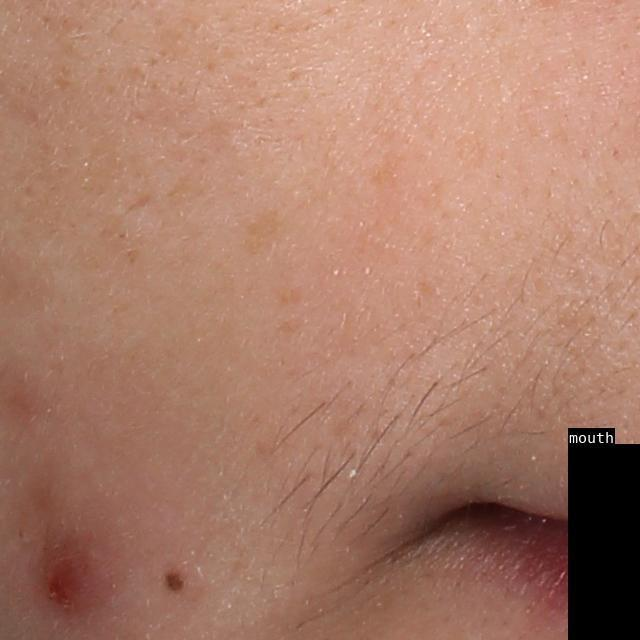atrophic_scar: (120, 190, 157, 218)
nevus: (163, 570, 185, 593)
